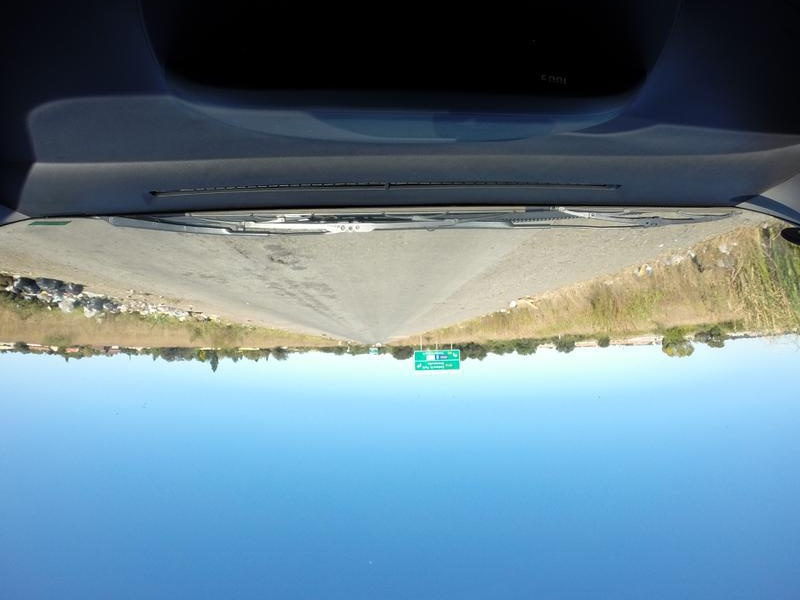pothole: (257, 244, 303, 276)
